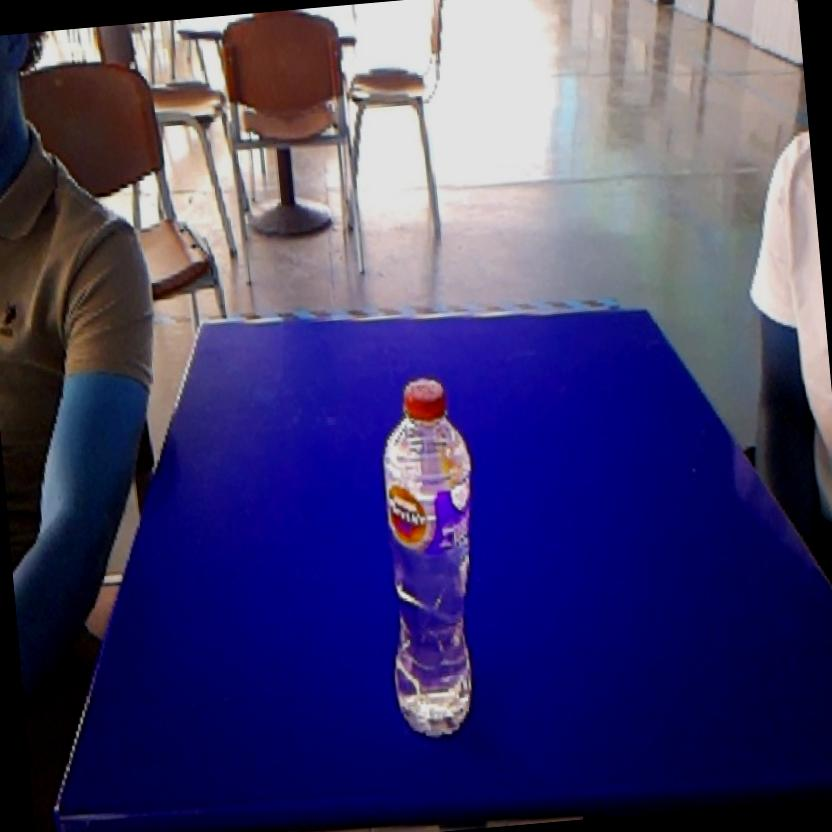good: (357, 366, 501, 750)
